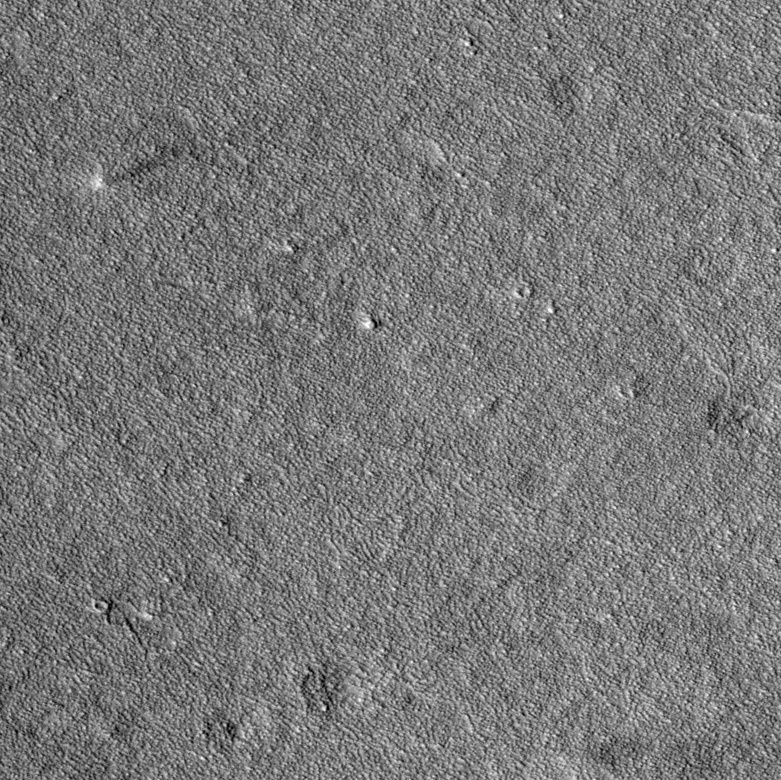dust_devil: (89, 147, 179, 194)
